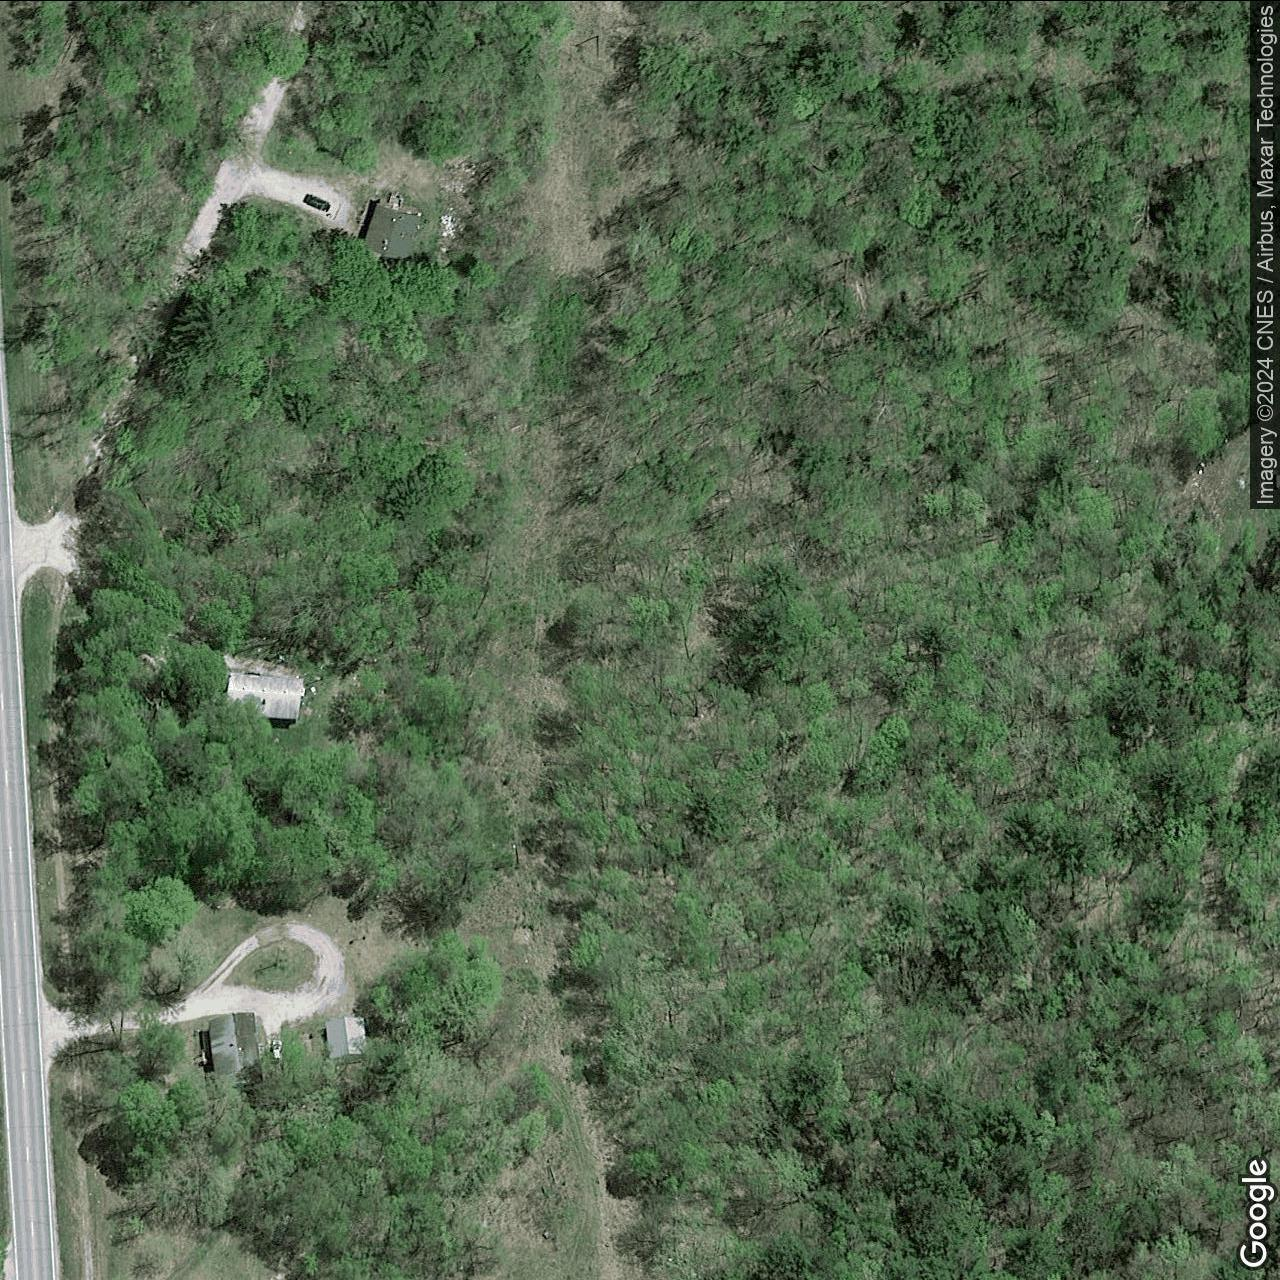Garage: (325, 1015, 366, 1064)
House: (209, 1009, 263, 1088), (226, 672, 305, 721), (362, 195, 423, 256)
